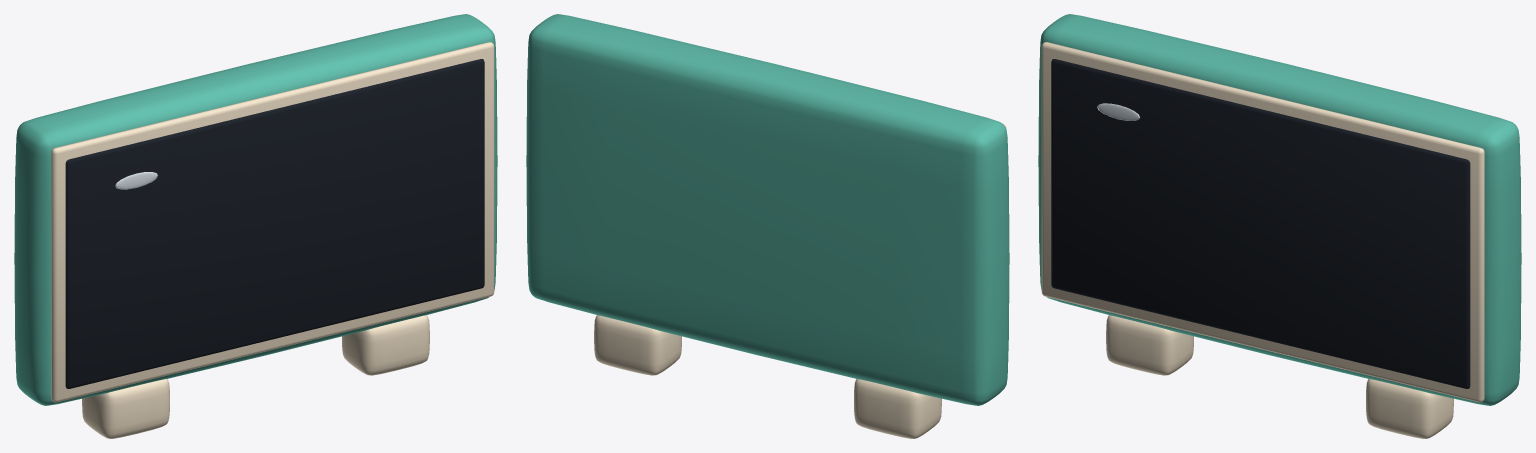
3 views of the same model, side by side, from view 1: azimuth 30°, elevation 25°; view 2: azimuth 150°, elevation 25°; view 3: azimuth 330°, elevation 25° (orthographic).
Visible parts, largest first — view 1: body; view 2: body; view 3: body.
Part boxes in pixels (x1,y1,x2,y2): body: [14, 14, 497, 438]; body: [526, 14, 1009, 438]; body: [1038, 14, 1521, 438].
Bounding box in the file's own units: 1.08 × 0.72 × 0.156.
